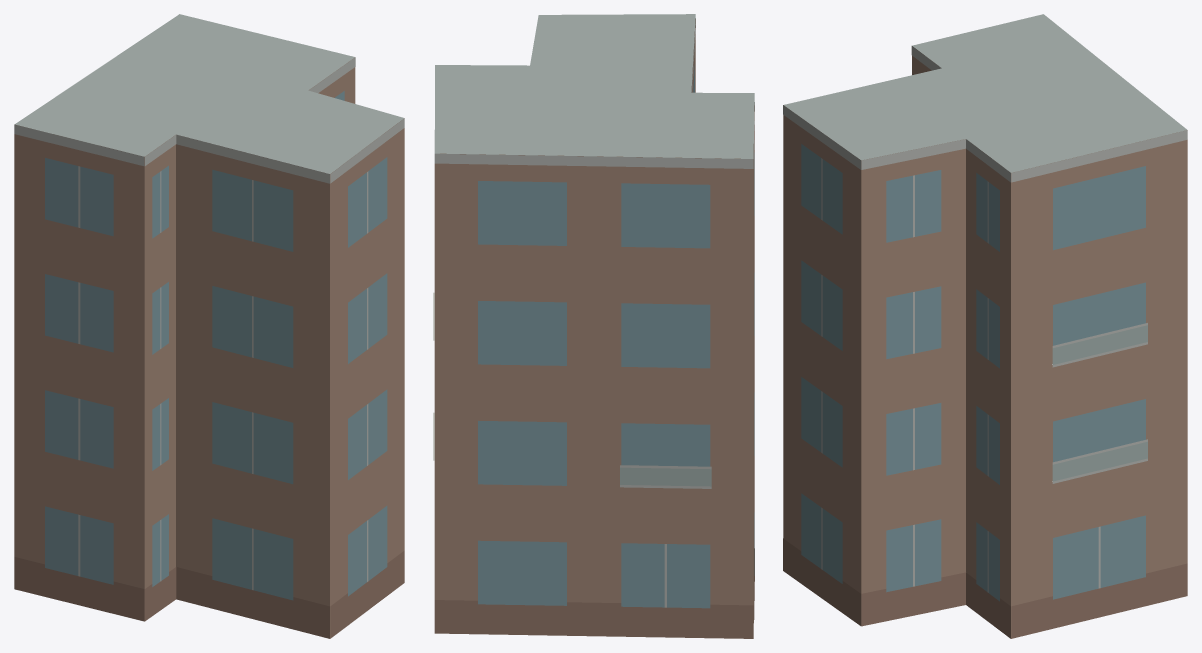
Rendered from survey-upis-32929594.glb.
3 renders of one model, left to right at view 1: azimuth 30°, elevation 25°; view 2: azimuth 150°, elevation 25°; view 3: azimuth 270°, elevation 25°, orthographic. The views are drawn at different scales.
Visible parts, largest first — view 1: survey-upis-32929594.tmp; view 2: survey-upis-32929594.tmp; view 3: survey-upis-32929594.tmp.
Part boxes in pixels (x1,y1,x2,y2): survey-upis-32929594.tmp: [14, 14, 404, 638]; survey-upis-32929594.tmp: [433, 14, 754, 638]; survey-upis-32929594.tmp: [783, 14, 1187, 638].
Size of the model in its own units: 8.57 by 11.7 by 9.21.
